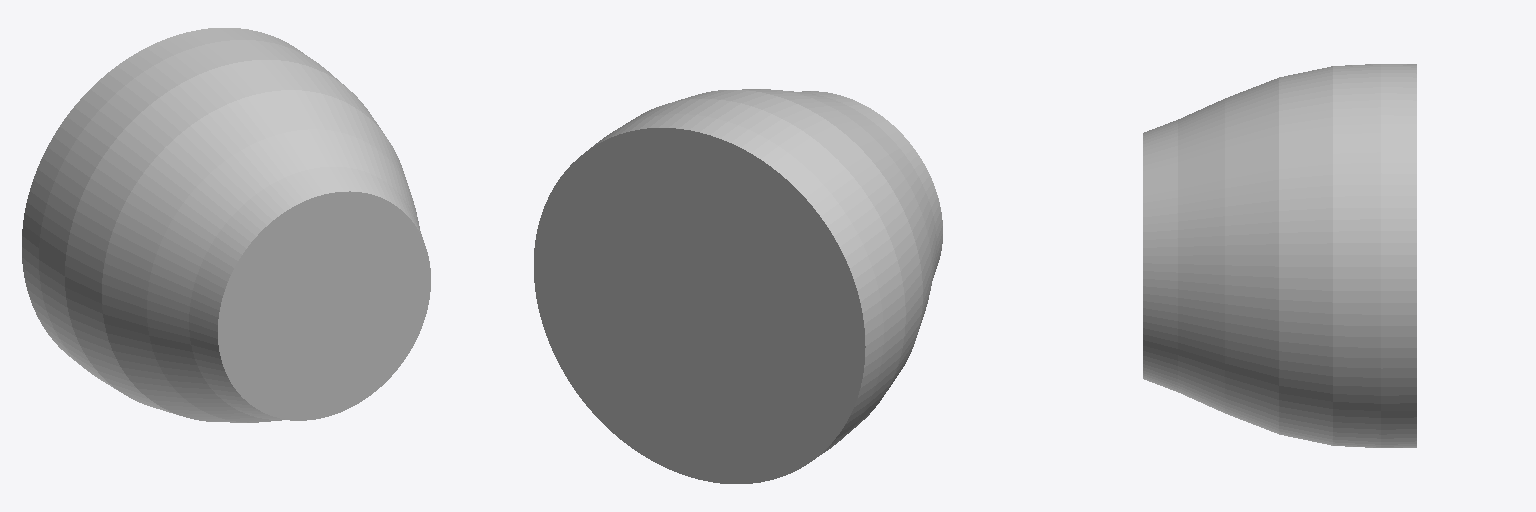
Rendered from spar_middle.obj.
3 renders of one model, left to right at view 1: azimuth 30°, elevation 25°; view 2: azimuth 150°, elevation 25°; view 3: azimuth 270°, elevation 25°, orthographic.
Parts seen in each view (by area): view 1: Circle.006_Circle.025; view 2: Circle.006_Circle.025; view 3: Circle.006_Circle.025.
Part boxes in pixels (left/top/right/bottom): Circle.006_Circle.025: left=22, top=28, right=430, bottom=422; Circle.006_Circle.025: left=534, top=89, right=942, bottom=483; Circle.006_Circle.025: left=1143, top=64, right=1416, bottom=447.
Bounding box in the file's own units: 14.05 × 14.05 × 10.